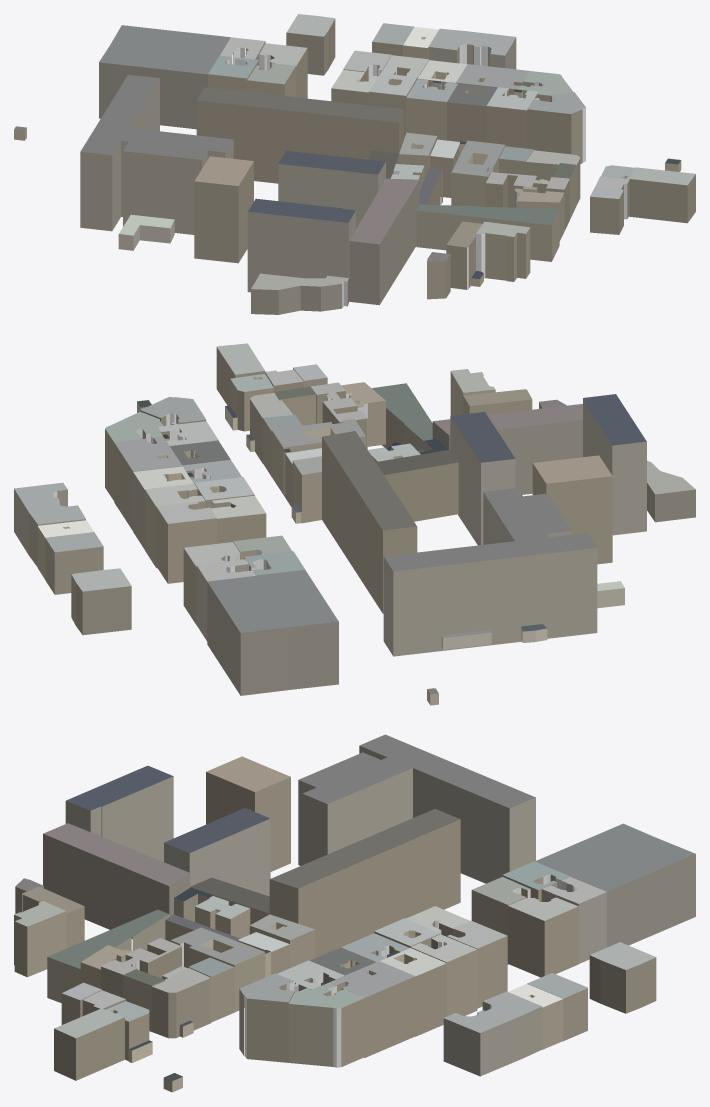
3 views of the same model, one above another, from view 1: azimuth 30°, elevation 25°; view 2: azimuth 150°, elevation 25°; view 3: azimuth 270°, elevation 25° (orthographic). The views are drawn at different scales.
Parts seen in each view (by area): view 1: tuile; view 2: tuile; view 3: tuile.
Boxes of the visible parts, x1,y1,x2,y2 form: tuile: [14, 14, 695, 314]; tuile: [14, 343, 695, 705]; tuile: [14, 734, 695, 1092].
Size of the model in its own units: 257 by 40.41 by 267.
